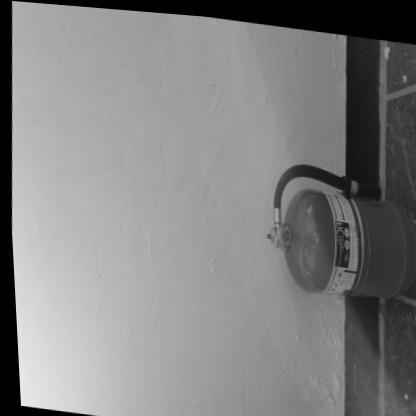FE: (260, 156, 416, 301)
